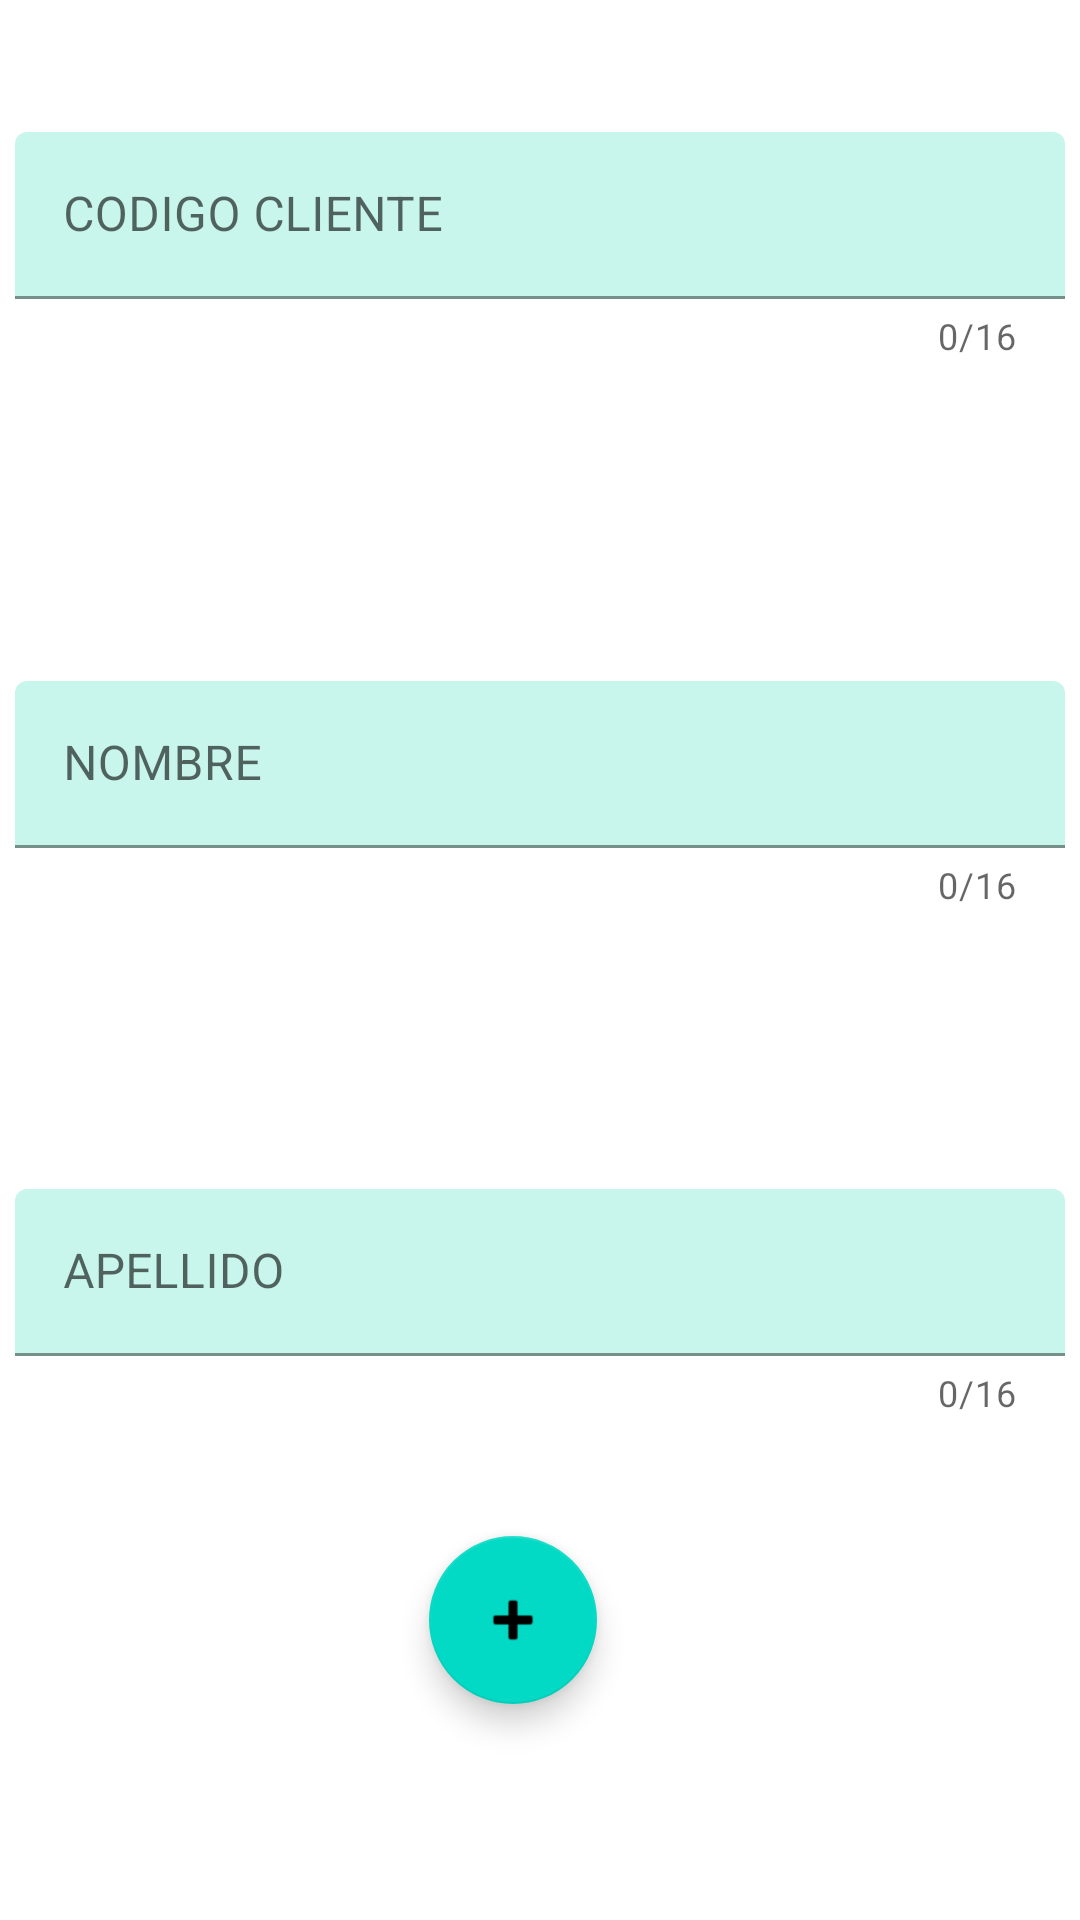

Icons on this 1080 × 1920 Android screen, each with its box as (x1, y1, x2, y2):
add: (429, 1536, 597, 1704)
